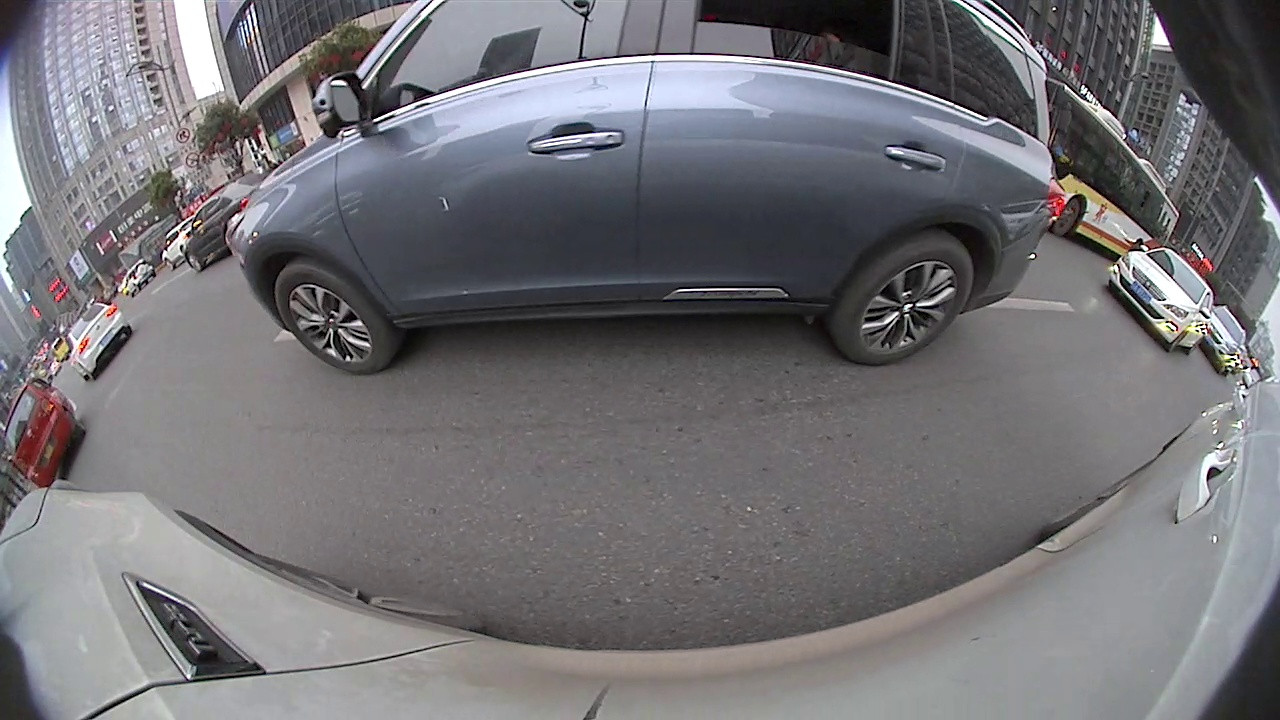bus: (1041, 72, 1184, 258)
car: (224, 1, 1065, 378), (1104, 242, 1213, 358), (180, 170, 289, 273), (61, 298, 134, 379), (1196, 300, 1248, 378)
front: (267, 265, 391, 375), (1050, 194, 1084, 238), (186, 255, 206, 275)
rear: (823, 237, 981, 369)
rider: (2, 373, 88, 489)
